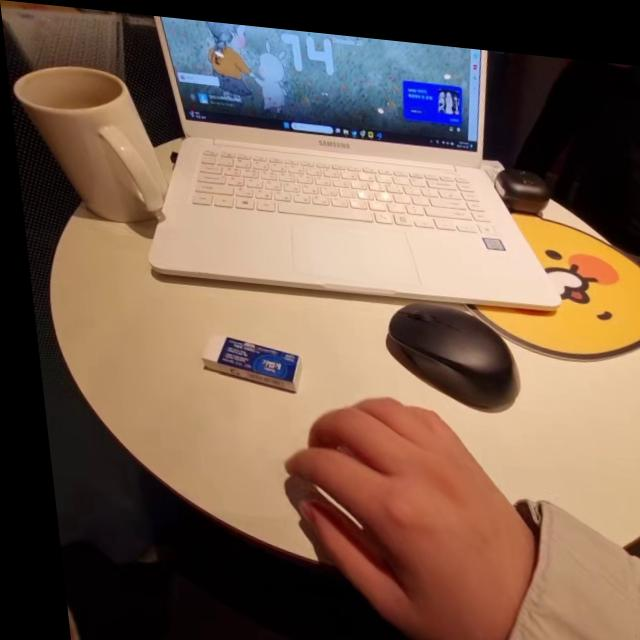eraser: (186, 323, 302, 391)
hand: (274, 383, 514, 628)
mouse: (347, 285, 535, 406)
